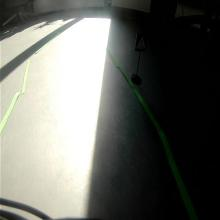crosswalk: (135, 32, 148, 52)
